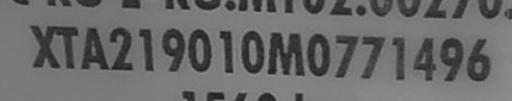letter: (266, 26, 308, 79), (78, 23, 112, 72), (27, 23, 61, 70), (184, 24, 214, 75), (464, 35, 494, 84), (304, 30, 332, 81), (358, 32, 386, 83), (437, 34, 465, 85), (108, 25, 136, 74), (238, 26, 266, 75), (410, 33, 438, 82), (159, 25, 187, 72), (332, 32, 360, 79), (55, 24, 81, 71), (216, 27, 238, 76), (388, 31, 408, 82), (136, 26, 156, 73)
